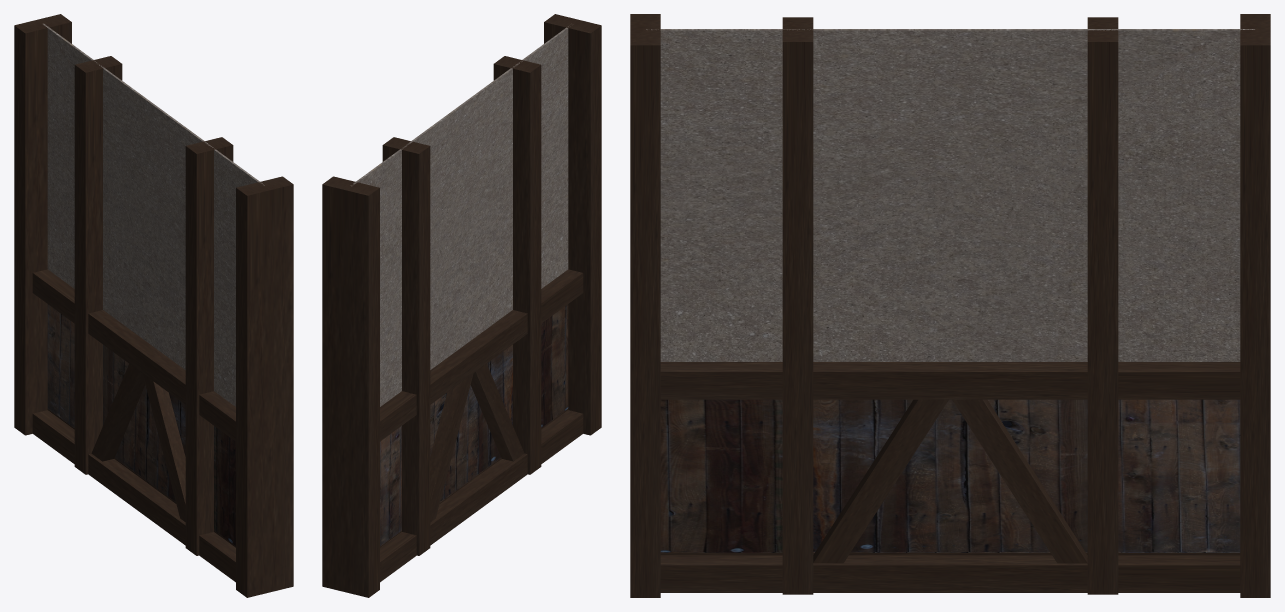
The model's file is OutdoorArchitecture_BasicWall02_BothEdges_BShortt.fbx.
3 renders of one model, left to right at view 1: azimuth 30°, elevation 25°; view 2: azimuth 150°, elevation 25°; view 3: azimuth 270°, elevation 25°, orthographic. The views are drawn at different scales.
Visible parts, largest first — view 1: OutdoorArchitecture_BasicWall02_BothEdges_BShortt; view 2: OutdoorArchitecture_BasicWall02_BothEdges_BShortt; view 3: OutdoorArchitecture_BasicWall02_BothEdges_BShortt.
Boxes of the visible parts, x1,y1,x2,y2 form: OutdoorArchitecture_BasicWall02_BothEdges_BShortt: [14, 14, 293, 597]; OutdoorArchitecture_BasicWall02_BothEdges_BShortt: [322, 14, 601, 597]; OutdoorArchitecture_BasicWall02_BothEdges_BShortt: [630, 14, 1270, 597].
Bounding box in the file's own units: 36.37 × 300 × 315.
1 material, 1 textured.
